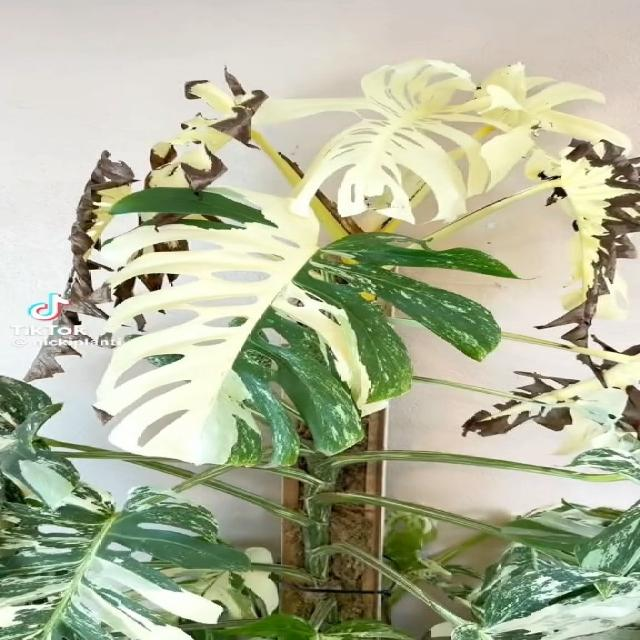lisc_suchy: (523, 78, 640, 442), (27, 151, 189, 382), (144, 66, 270, 193), (460, 371, 578, 438), (120, 274, 177, 296)
lisc_variegata: (92, 169, 518, 473), (251, 58, 603, 225), (0, 486, 268, 640), (450, 547, 640, 640), (0, 377, 102, 504), (573, 516, 640, 576), (567, 448, 640, 479), (562, 499, 598, 510)
roslina_sucha: (0, 60, 640, 640)
roslina_variegata: (0, 60, 640, 640)
